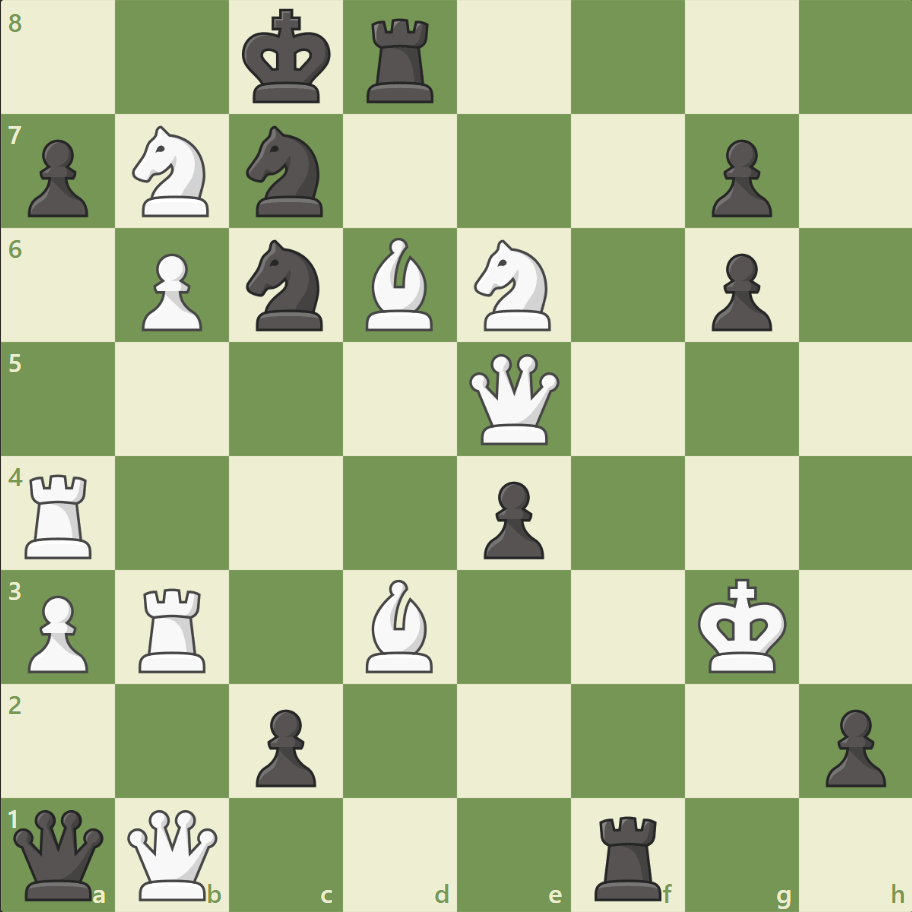B: (358, 233, 442, 336), (358, 574, 442, 676)
K: (692, 571, 792, 679)
N: (124, 121, 222, 223), (465, 234, 562, 337)
P: (133, 246, 208, 337), (20, 586, 95, 677)
Q: (464, 349, 563, 449), (124, 804, 223, 903)
R: (19, 466, 102, 563), (133, 579, 215, 676)
k: (238, 4, 338, 112)
n: (238, 234, 335, 337), (238, 121, 335, 223)
p: (20, 132, 95, 223), (701, 132, 776, 223), (701, 246, 776, 337), (474, 473, 549, 564), (247, 700, 322, 791), (815, 700, 889, 791)
q: (10, 804, 109, 903)
r: (587, 806, 670, 904), (360, 12, 442, 109)
